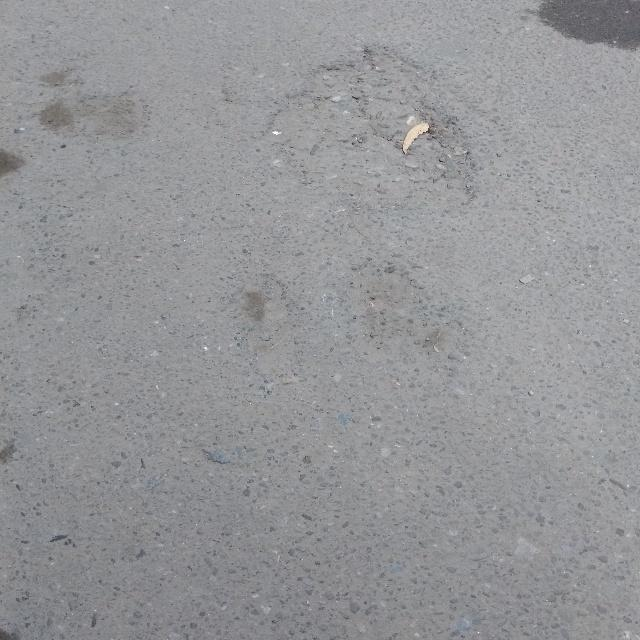Pothole: (306, 70, 486, 212)
Surface Erosion: (38, 62, 560, 529)
